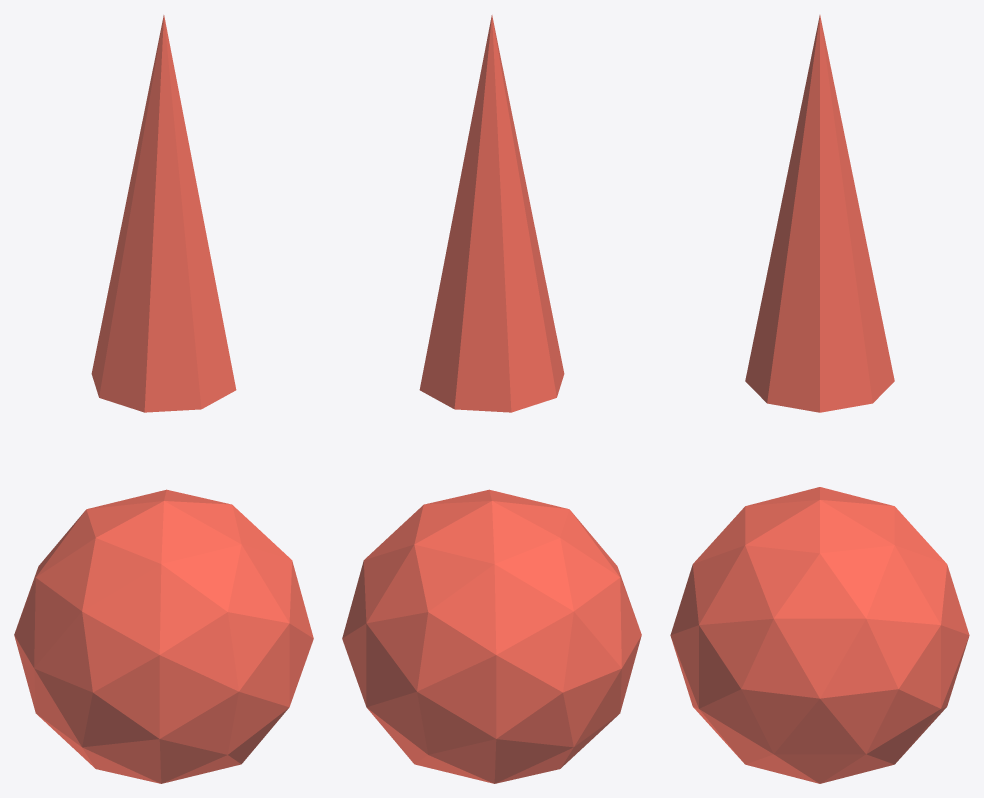
Rendered from throwing_dagger_projectile.glb.
3 renders of one model, left to right at view 1: azimuth 30°, elevation 25°; view 2: azimuth 150°, elevation 25°; view 3: azimuth 270°, elevation 25°, orthographic.
Parts seen in each view (by area): view 1: projectile_core, trail; view 2: projectile_core, trail; view 3: projectile_core, trail.
Part boxes in pixels (x1=…): projectile_core: x1=14, y1=489, x2=313, y2=783; trail: x1=91, y1=15, x2=236, y2=412; projectile_core: x1=342, y1=489, x2=641, y2=783; trail: x1=419, y1=15, x2=564, y2=412; projectile_core: x1=670, y1=487, x2=969, y2=783; trail: x1=745, y1=15, x2=894, y2=412.
Bounding box in the file's own units: 0.48 × 1.34 × 0.48.
